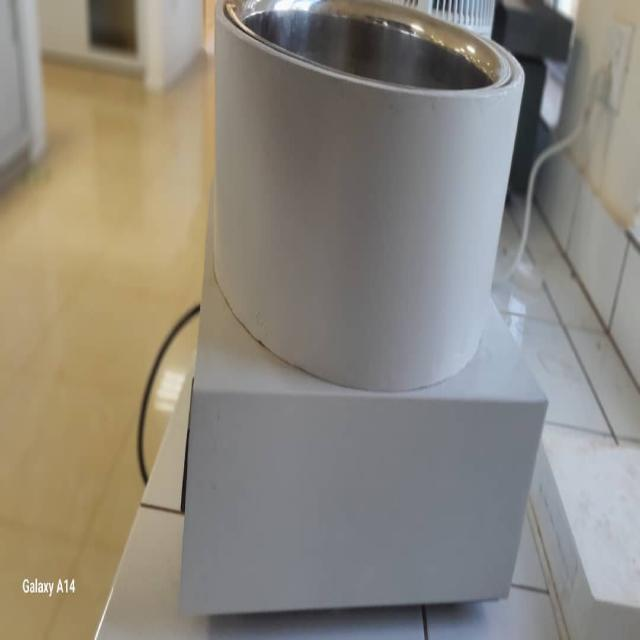Water-Oil Bath: (199, 9, 539, 619)
